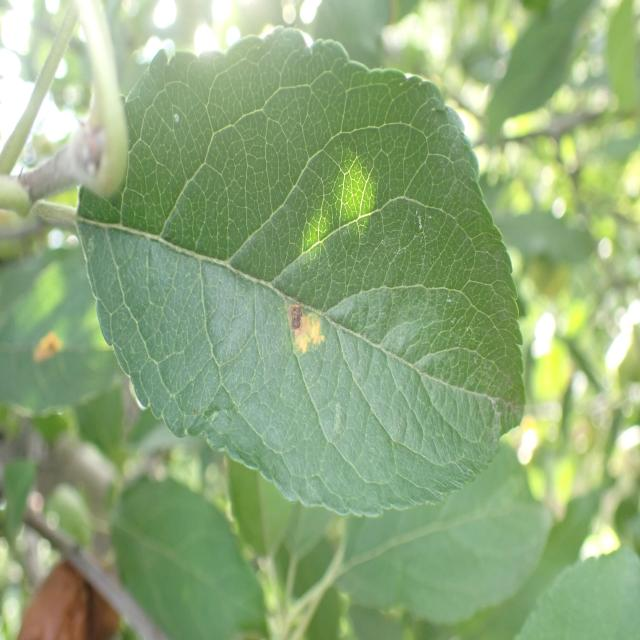Rust: (280, 278, 330, 367), (27, 327, 67, 375)
